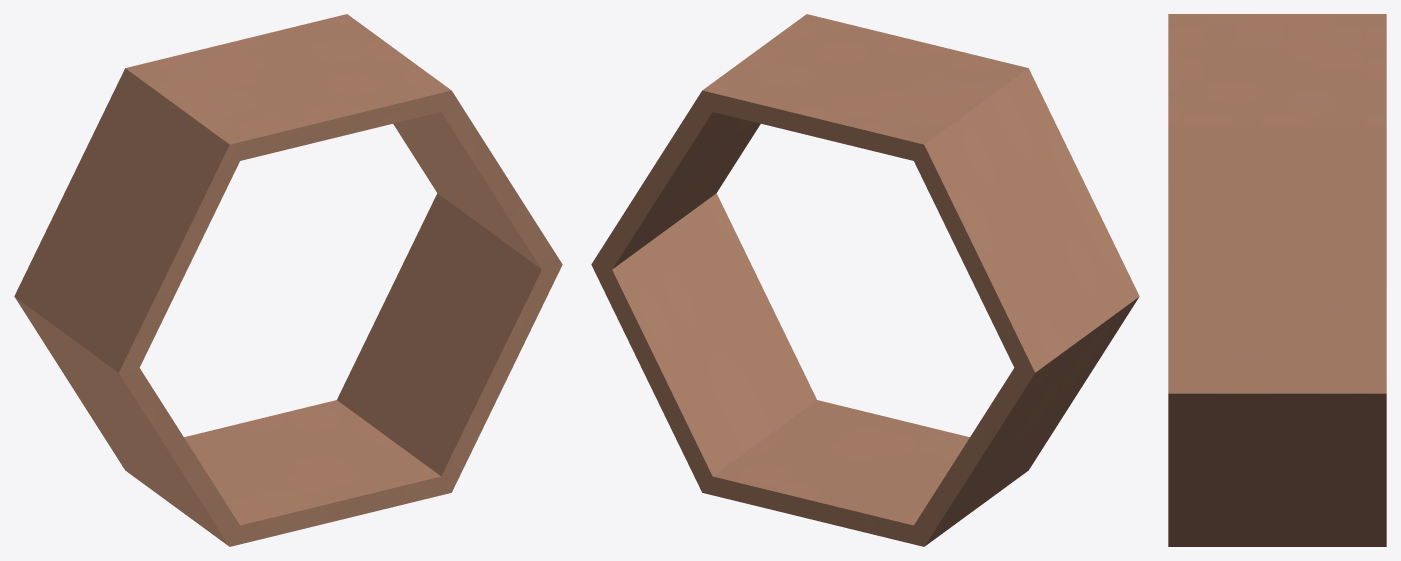
The model's file is Wall_Shelf_03_01.fbx.
3 renders of one model, left to right at view 1: azimuth 30°, elevation 25°; view 2: azimuth 150°, elevation 25°; view 3: azimuth 270°, elevation 25°, orthographic. The views are drawn at different scales.
Parts seen in each view (by area): view 1: Wall_Shelf_03_01; view 2: Wall_Shelf_03_01; view 3: Wall_Shelf_03_01.
Boxes of the visible parts, x1,y1,x2,y2 form: Wall_Shelf_03_01: (14,14,562,546); Wall_Shelf_03_01: (591,14,1139,546); Wall_Shelf_03_01: (1168,14,1386,546).
Bounding box in the file's own units: 0.8223 × 0.7122 × 0.3353.
